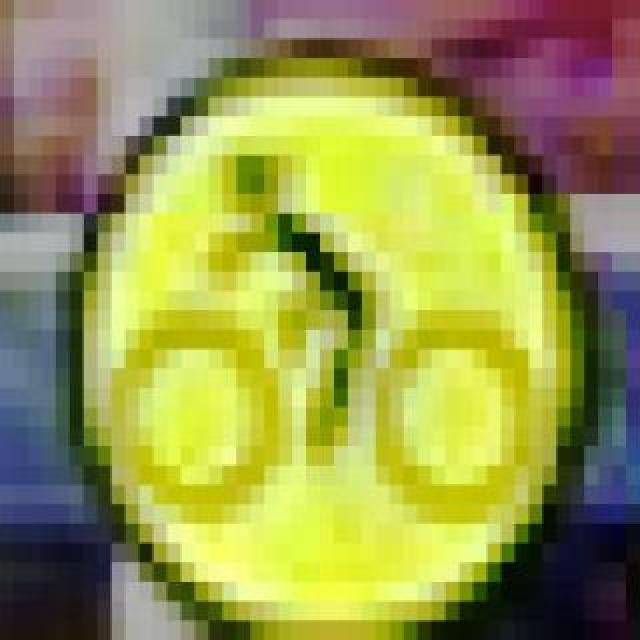bike lane: (70, 40, 558, 602)
